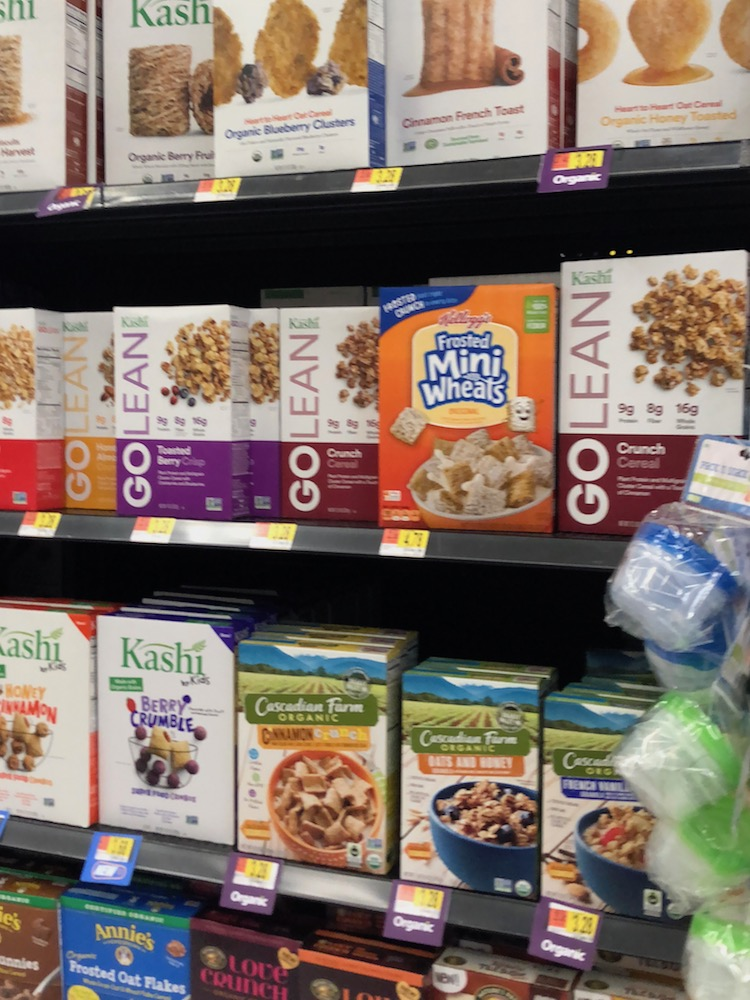Frosted Mini Original -9295869: (375, 298, 553, 533)
